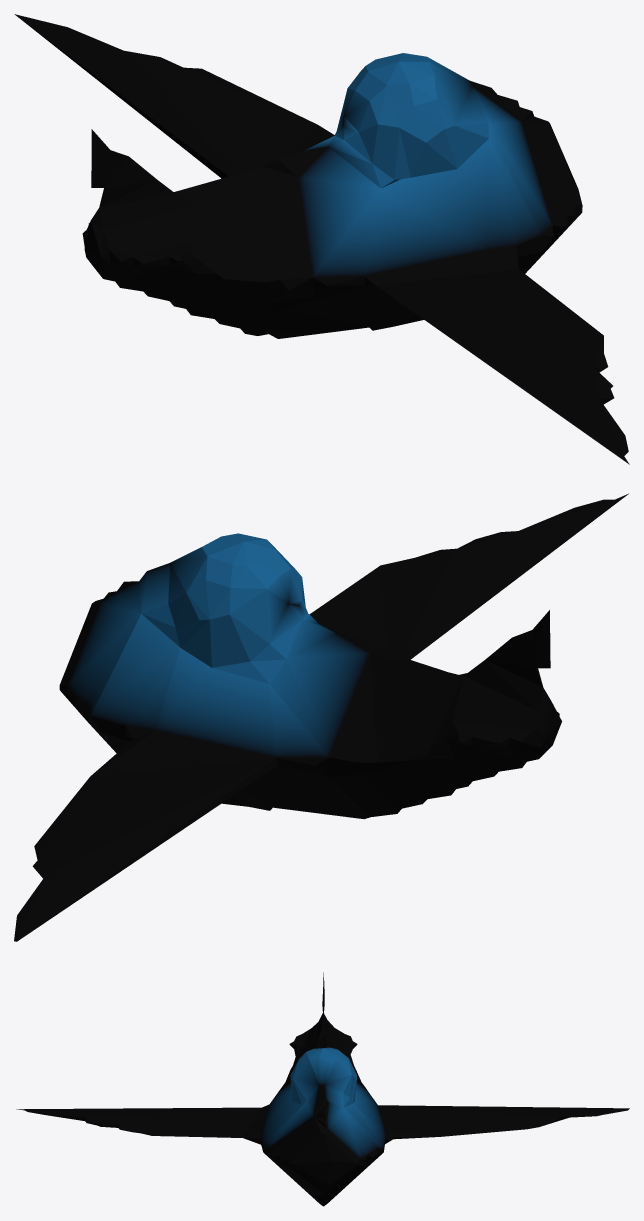
Rendered from Airplanes.glb.
The picture shows the model from 3 angles, top to bottom: view 1: azimuth 30°, elevation 25°; view 2: azimuth 150°, elevation 25°; view 3: azimuth 270°, elevation 25°; orthographic projection. The views are drawn at different scales.
Parts seen in each view (by area): view 1: Root; view 2: Root; view 3: Root.
Part boxes in pixels (x1,y1,x2,y2): Root: (14,14,629,464); Root: (14,493,628,941); Root: (16,972,629,1206).
Size of the model in its own units: 7.41 by 4.3 by 16.8.
